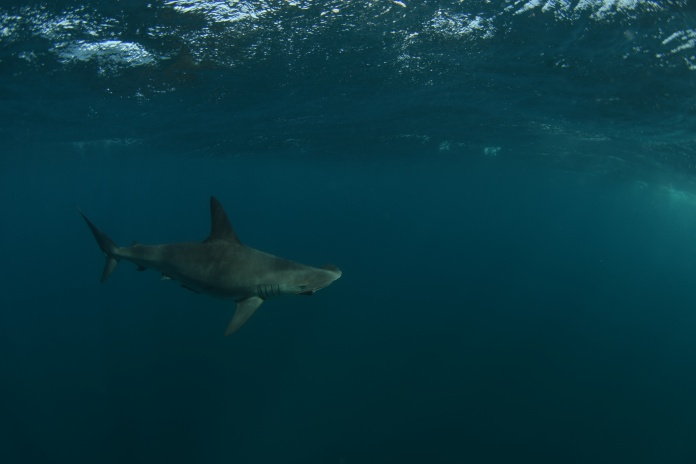Hammer: (76, 180, 360, 346)
